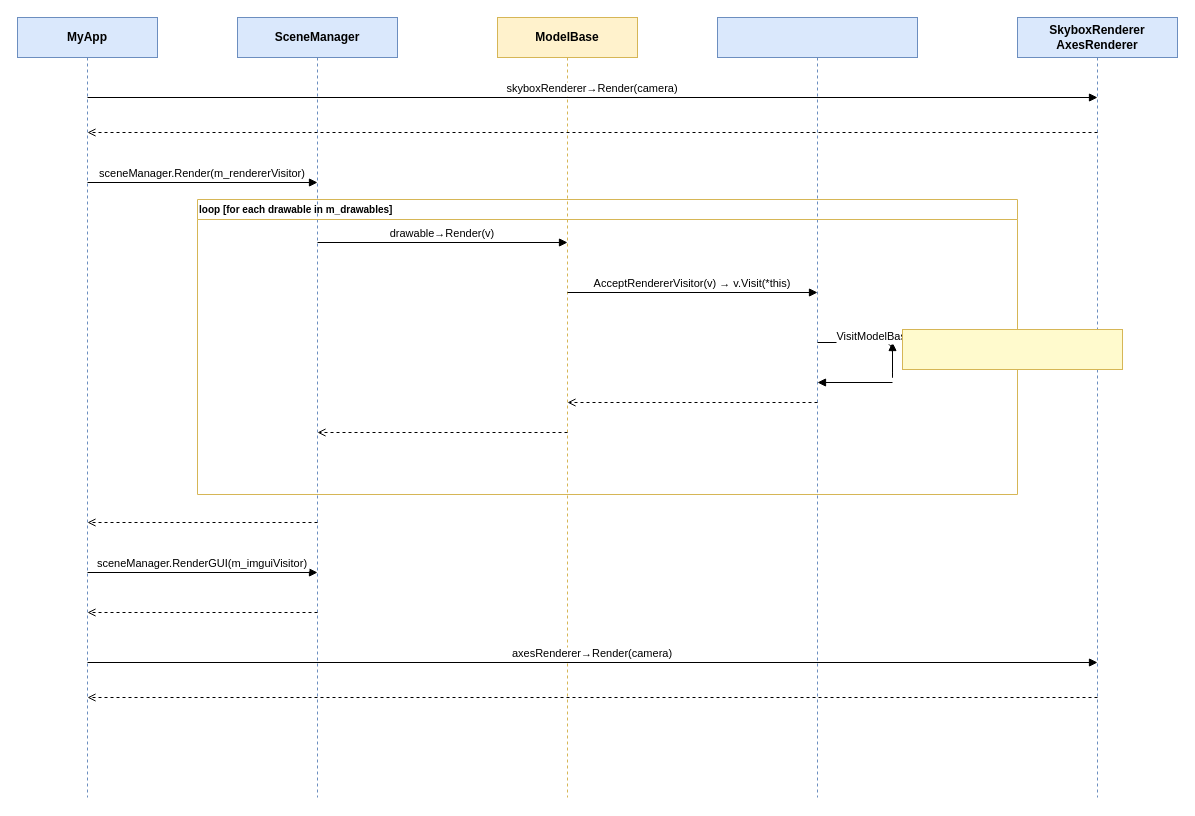
Some shapes in this 1195 by 816 pixel diagram are drawn without their labels. The centre of each missing label's shape, as x and y in pixels:
"OpenGLRendererVisitor" goes at (x=817, y=37).
"reads m_camera→GetViewProj() reads m_camera→GetEye()" goes at (x=1012, y=349).
